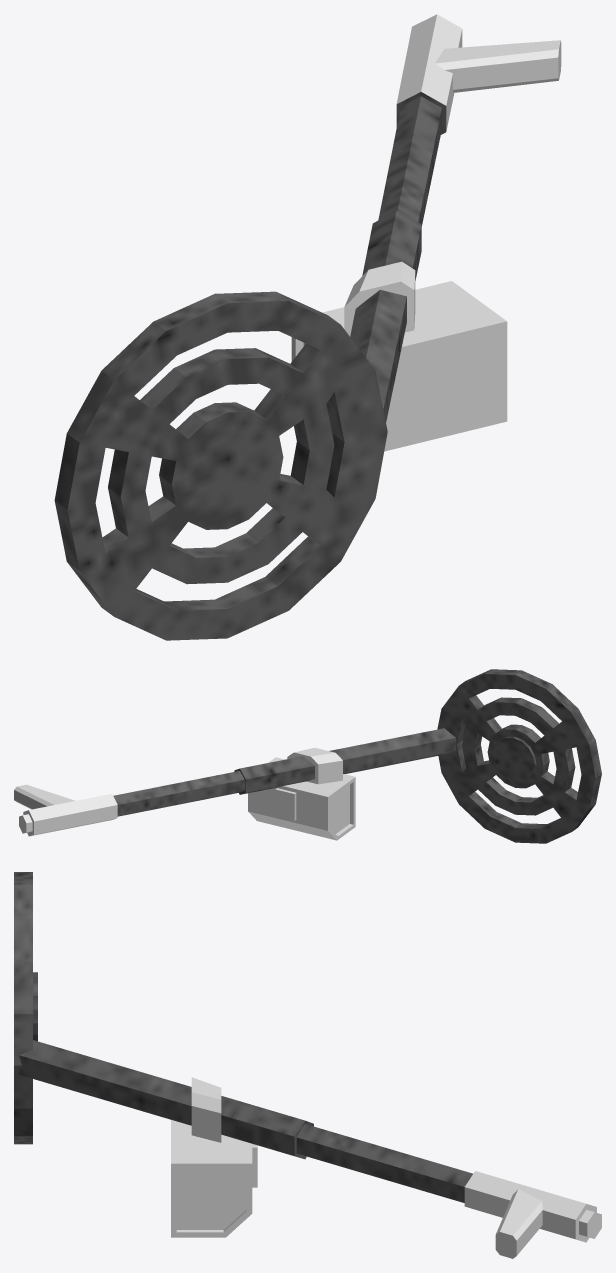
Rendered from MetalDetector.fbx.
3 views of the same model, one above another, from view 1: azimuth 30°, elevation 25°; view 2: azimuth 150°, elevation 25°; view 3: azimuth 270°, elevation 25° (orthographic). The views are drawn at different scales.
Visible parts, largest first — view 1: Cylinder.001; view 2: Cylinder.001; view 3: Cylinder.001.
Part boxes in pixels (x1,y1,x2,y2): Cylinder.001: [54, 14, 561, 640]; Cylinder.001: [14, 669, 601, 843]; Cylinder.001: [14, 872, 601, 1258].
Size of the model in its own units: 321 by 123 by 266.
